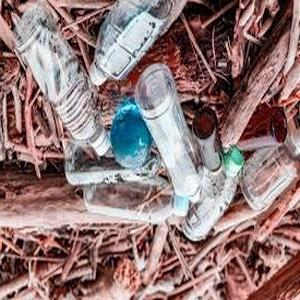Plastic: (6, 13, 106, 156), (83, 2, 172, 83), (239, 132, 300, 208), (85, 183, 191, 223)
